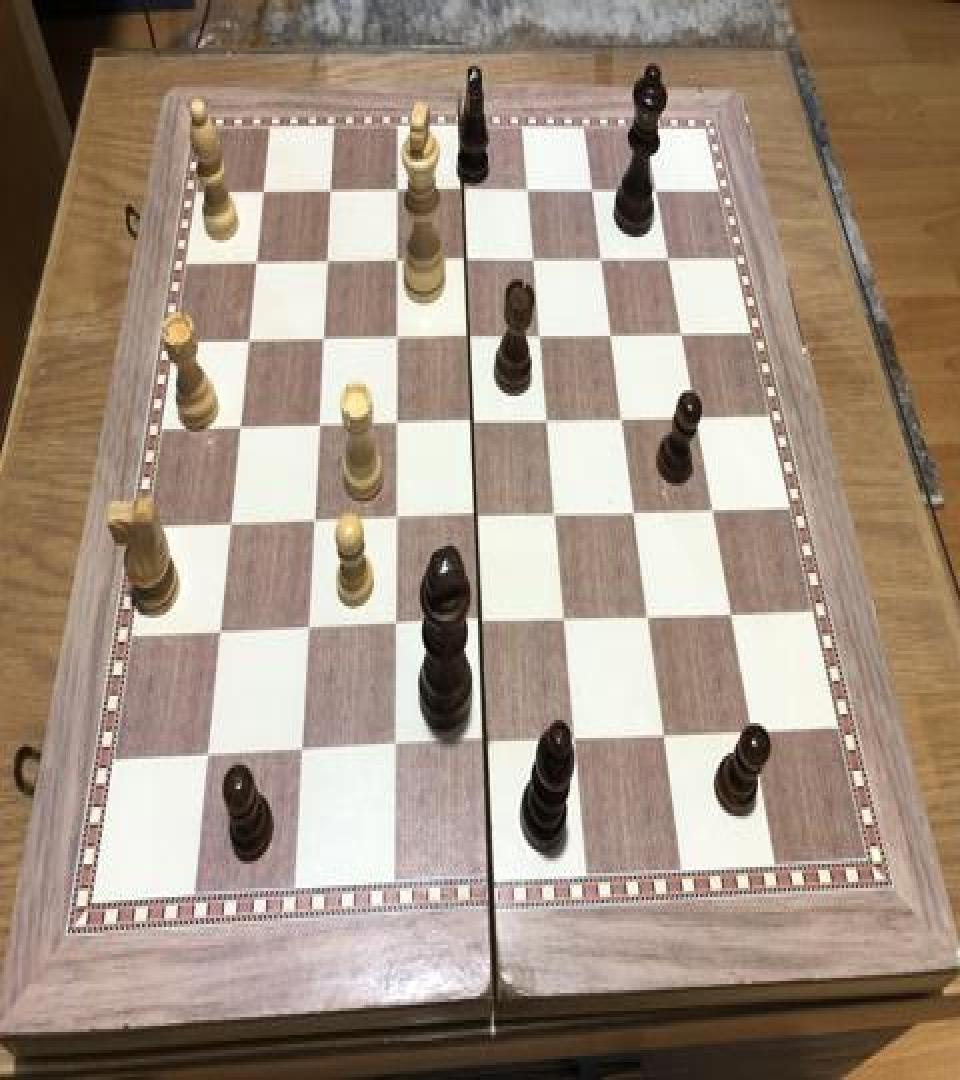xcorner: (720, 595, 744, 632), (207, 616, 231, 653), (194, 739, 218, 776), (645, 176, 669, 212), (581, 176, 605, 212), (517, 177, 541, 213), (451, 177, 475, 213), (386, 178, 410, 214), (319, 178, 343, 214), (252, 178, 276, 214), (657, 243, 681, 279), (590, 244, 614, 280), (523, 246, 547, 282), (454, 246, 478, 282), (385, 248, 409, 284), (315, 248, 339, 284), (245, 249, 269, 285), (671, 318, 695, 354), (600, 320, 624, 356), (529, 321, 553, 357), (457, 322, 481, 358), (384, 324, 408, 360), (311, 326, 335, 362), (237, 327, 261, 363), (685, 400, 709, 436), (611, 402, 635, 438), (536, 405, 560, 441), (460, 406, 484, 442), (384, 408, 408, 444), (306, 411, 330, 447), (701, 492, 725, 528), (623, 495, 647, 531), (544, 498, 568, 534), (464, 501, 488, 537), (383, 504, 407, 540), (301, 506, 325, 542), (218, 508, 242, 544), (637, 598, 661, 634), (553, 603, 577, 639), (468, 606, 492, 642), (382, 609, 406, 645), (295, 614, 319, 650), (740, 711, 764, 747), (652, 716, 676, 752), (563, 720, 587, 756), (473, 724, 497, 760), (381, 730, 405, 766), (288, 735, 312, 771), (228, 413, 252, 448)
